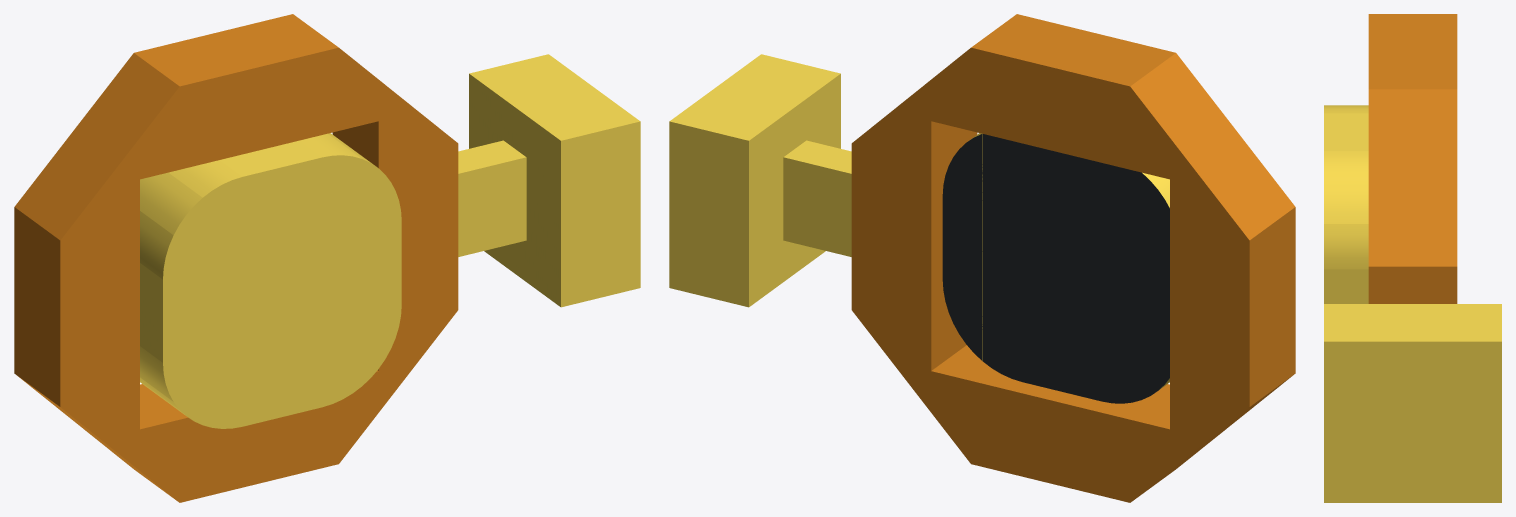
The model's file is tankTurret.glb.
3 renders of one model, left to right at view 1: azimuth 30°, elevation 25°; view 2: azimuth 150°, elevation 25°; view 3: azimuth 270°, elevation 25°, orthographic. The views are drawn at different scales.
Parts seen in each view (by area): view 1: generated(Clone); view 2: generated(Clone); view 3: generated(Clone).
Part boxes in pixels (left/top/right/bottom): generated(Clone): left=14, top=14, right=640, bottom=502; generated(Clone): left=669, top=14, right=1295, bottom=502; generated(Clone): left=1324, top=14, right=1501, bottom=502.
Size of the model in its own units: 14 by 10 by 4.
